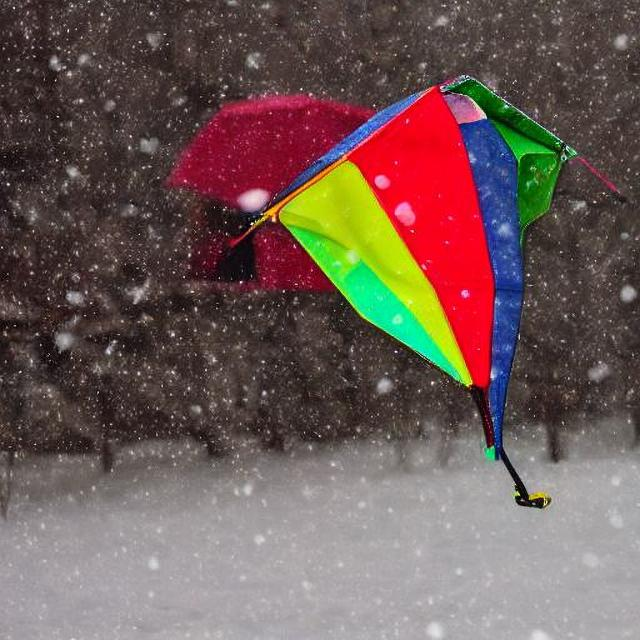floating object: (8, 60, 579, 494)
